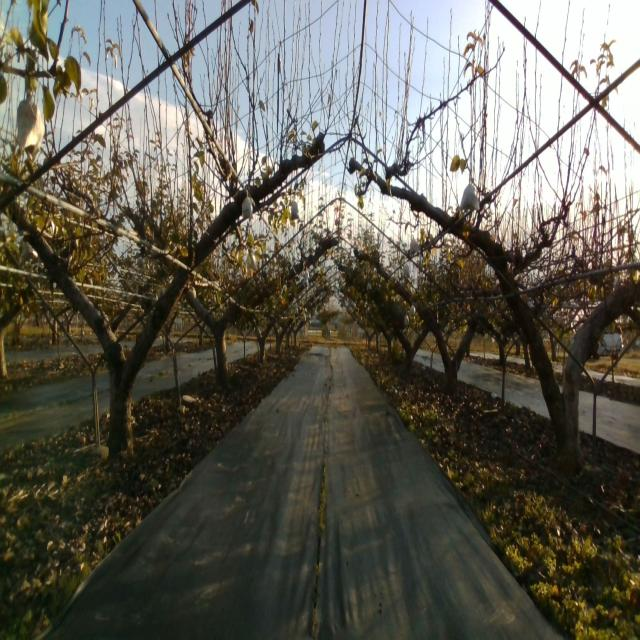pearbags: (15, 90, 46, 165), (459, 183, 480, 212), (242, 190, 254, 221), (409, 235, 421, 257), (290, 197, 300, 220)
